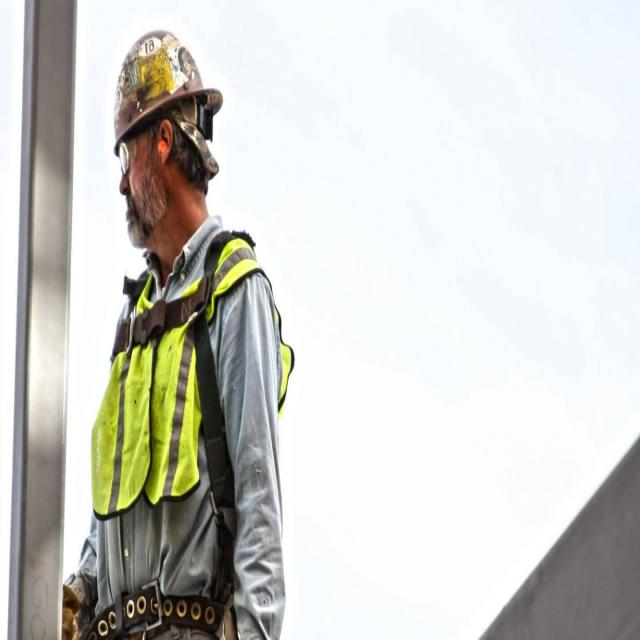Reflective-Jacket: (90, 226, 298, 518)
Safety-Helmet: (105, 18, 226, 142)
